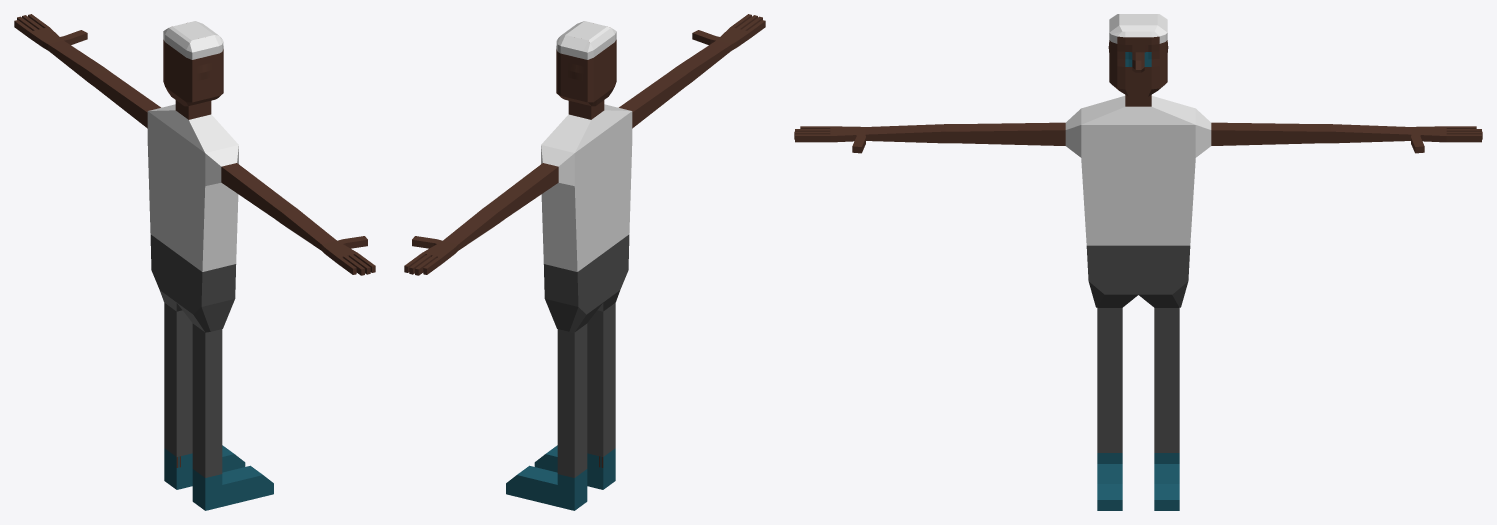
The model's file is BoyModelTwo.fbx.
3 views of the same model, side by side, from view 1: azimuth 30°, elevation 25°; view 2: azimuth 150°, elevation 25°; view 3: azimuth 270°, elevation 25° (orthographic).
Visible parts, largest first — view 1: Plane; view 2: Plane; view 3: Plane.
Part boxes in pixels (x1,y1,x2,y2): Plane: [14, 14, 375, 510]; Plane: [404, 14, 765, 510]; Plane: [794, 14, 1482, 510].
Size of the model in its own units: 165 by 940 by 1269.
